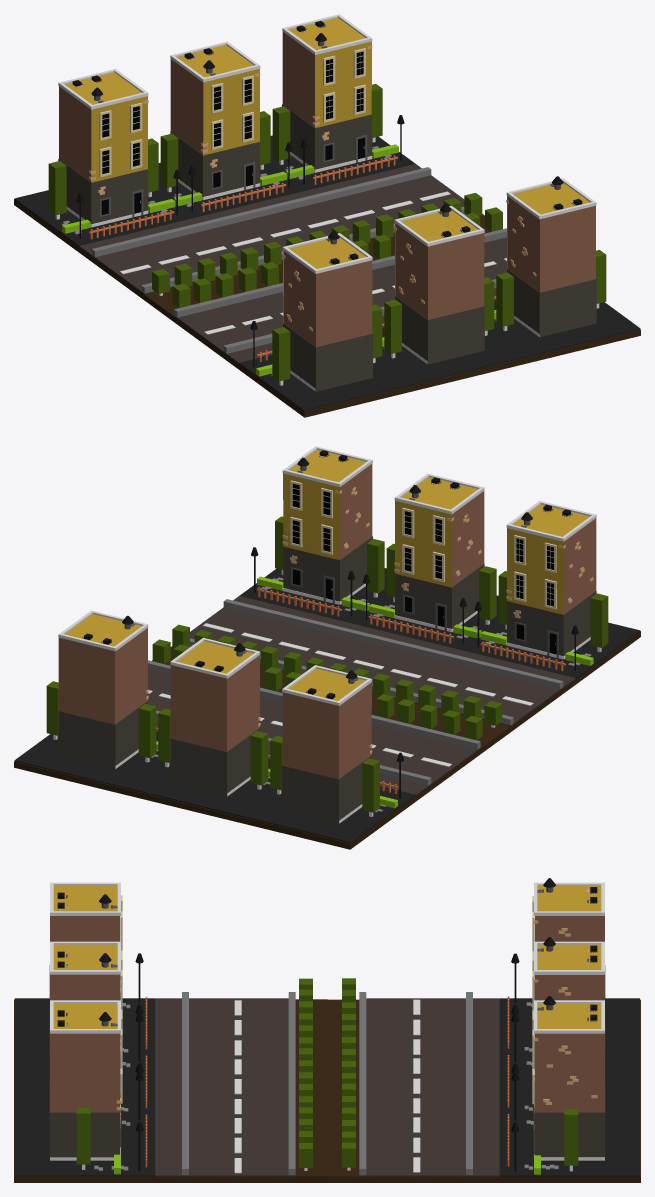
File: Building.glb
3 views of the same model, one above another, from view 1: azimuth 30°, elevation 25°; view 2: azimuth 150°, elevation 25°; view 3: azimuth 270°, elevation 25° (orthographic). The views are drawn at different scales.
Parts seen in each view (by area): view 1: Cube.175, Cube.143, Cube.111, Cube, Cube.078, Cube.007, Cube.174, Cube.146, Cube.114, Cube.178, Cube.196, Cube.046 (+47 smaller); view 2: Cube.079, Cube.001, Cube.010, Cube.174, Cube.110, Cube.142, Cube, Cube.033, Cube.046, Cube.082, Cube.004, Cube.003 (+47 smaller); view 3: Cube.078, Cube.110, Cube.174, Cube, Cube.142, Cube.007, Cube.111, Cube.079, Cube.113, Cube.081, Cube.003, Cube.177 (+38 smaller).
Boxes of the visible parts, x1,y1,x2,y2 form: Cube.175: [283, 251, 372, 347]; Cube.143: [395, 223, 484, 319]; Cube.111: [507, 196, 595, 292]; Cube: [79, 218, 240, 294]; Cube.078: [304, 164, 464, 239]; Cube.007: [192, 191, 352, 266]; Cube.174: [174, 292, 283, 363]; Cube.146: [395, 296, 484, 364]; Cube.114: [507, 269, 596, 336]; Cube.178: [283, 323, 372, 391]; Cube.196: [172, 262, 382, 381]; Cube.046: [48, 138, 258, 293]; Cube.079: [58, 628, 147, 724]; Cube.001: [282, 683, 371, 779]; Cube.010: [170, 656, 259, 751]; Cube.174: [413, 650, 575, 726]; Cube.110: [190, 596, 351, 671]; Cube.142: [301, 623, 462, 698]; Cube: [371, 724, 480, 795]; Cube.033: [170, 728, 259, 796]; Cube.046: [270, 694, 482, 812]; Cube.082: [58, 701, 147, 768]; Cube.004: [282, 755, 371, 823]; Cube.003: [238, 786, 415, 843]; Cube.078: [359, 1116, 499, 1176]; Cube.110: [155, 1116, 295, 1176]; Cube.174: [155, 998, 288, 1057]; Cube: [366, 998, 499, 1057]; Cube.142: [155, 1057, 288, 1116]; Cube.007: [366, 1057, 499, 1116]; Cube.111: [50, 1033, 119, 1112]; Cube.079: [535, 1033, 604, 1112]; Cube.113: [15, 1116, 155, 1176]; Cube.081: [499, 1116, 639, 1176]; Cube.003: [499, 998, 639, 1057]; Cube.177: [15, 998, 155, 1057].
Size of what is drawn, in the model's own units: 120 by 46.82 by 179.
